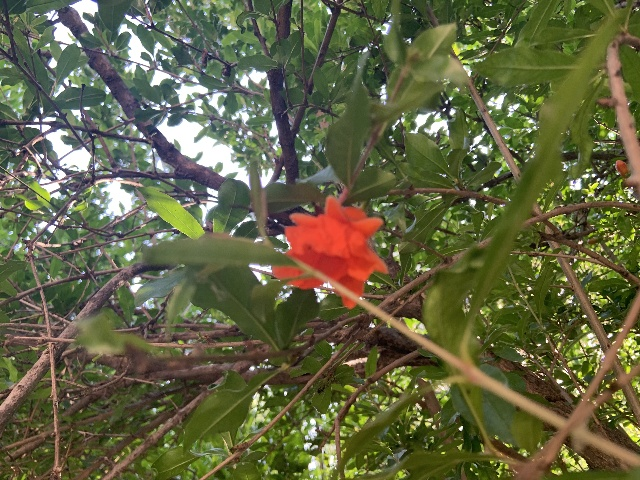bud: (615, 160, 629, 176)
flower: (271, 193, 388, 310)
